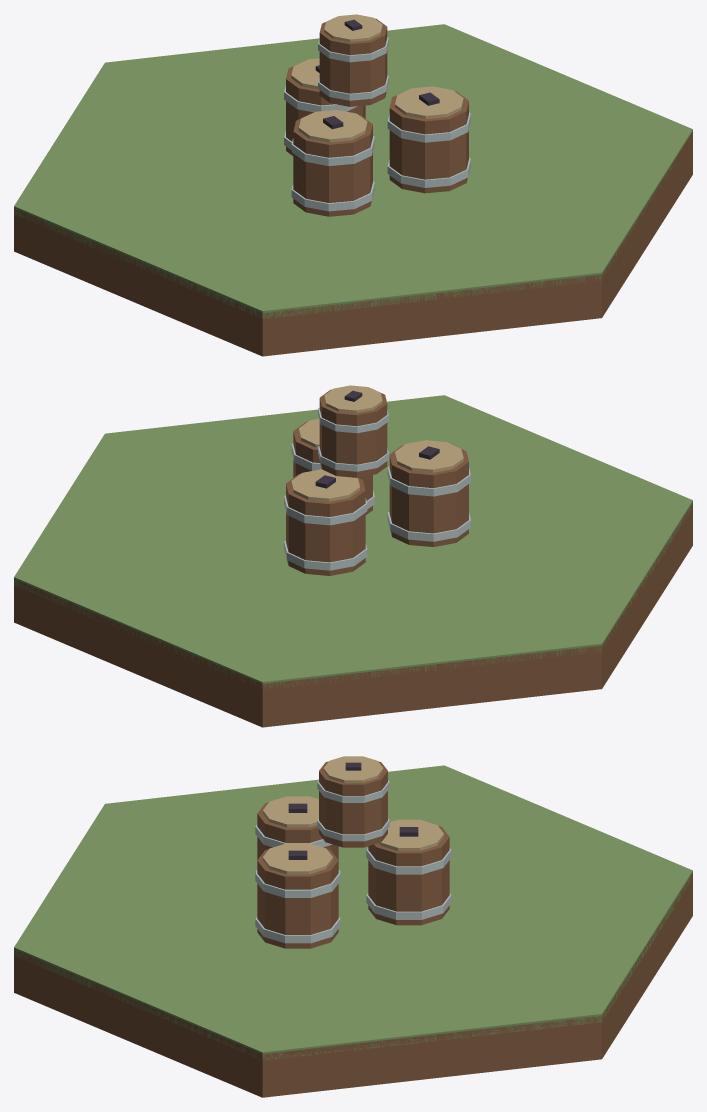
The model's file is kegs.glb.
3 views of the same model, one above another, from view 1: azimuth 30°, elevation 25°; view 2: azimuth 150°, elevation 25°; view 3: azimuth 270°, elevation 25° (orthographic).
Parts seen in each view (by area): view 1: Cone.221, Cone.220, Cone.226, Cone.222, Cone.234, Cone.225, Cone.229, Cone.230, Cone.237, Cone.228, Cone.227, Cone.224 (+5 smaller); view 2: Cone.221, Cone.220, Cone.222, Cone.230, Cone.234, Cone.225, Cone.233, Cone.237, Cone.226, Cone.224, Cone.231, Cone.223 (+3 smaller); view 3: Cone.221, Cone.220, Cone.226, Cone.230, Cone.234, Cone.229, Cone.233, Cone.225, Cone.222, Cone.237, Cone.232, Cone.227 (+4 smaller).
Boxes of the visible parts, x1,y1,x2,y2 form: Cone.221: (14,24,692,318); Cone.220: (14,131,692,356); Cone.226: (389,89,468,193); Cone.222: (293,114,372,216); Cone.234: (319,18,387,106); Cone.225: (298,110,367,142); Cone.229: (395,86,463,118); Cone.230: (286,63,365,155); Cone.237: (324,14,382,42); Cone.228: (387,112,470,142); Cone.227: (387,157,470,187); Cone.224: (291,136,374,165); Cone.221: (14,395,692,689); Cone.220: (14,502,692,727); Cone.222: (389,444,468,546); Cone.230: (286,474,365,575); Cone.234: (319,389,387,477); Cone.225: (395,440,463,472); Cone.233: (291,469,359,501); Cone.237: (324,385,382,413); Cone.226: (293,421,372,514); Cone.224: (387,466,470,496); Cone.231: (284,540,367,570); Cone.223: (387,511,470,541); Cone.221: (14,765,692,1060); Cone.220: (14,873,692,1097); Cone.226: (257,849,338,948); Cone.230: (368,825,449,925); Cone.234: (319,761,387,847); Cone.229: (263,843,332,874); Cone.233: (379,819,443,850); Cone.225: (263,796,318,827); Cone.222: (257,802,338,859); Cone.237: (323,756,383,782); Cone.232: (366,848,451,874); Cone.227: (255,916,340,943).
Size of the model in its own units: 3.67 by 1.13 by 3.67.
